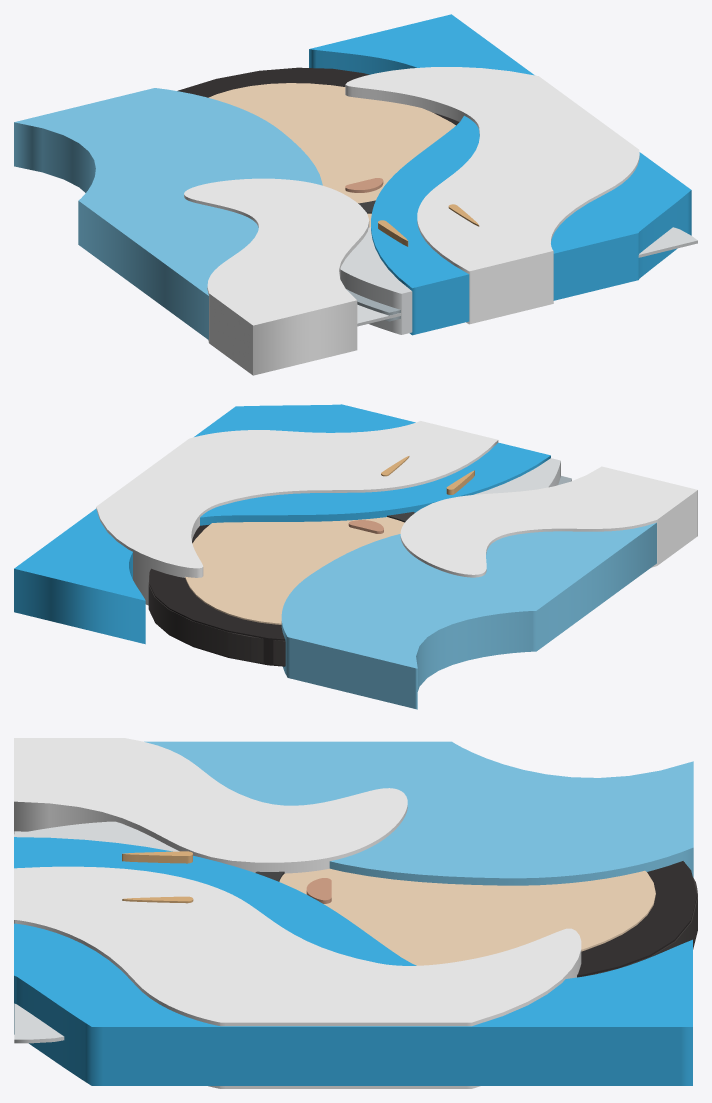
Rendered from emoji_u1f9d6_1f3fb_200d_2642.glb.
3 renders of one model, top to bottom at view 1: azimuth 30°, elevation 25°; view 2: azimuth 150°, elevation 25°; view 3: azimuth 270°, elevation 25°, orthographic. The views are drawn at different scales.
Parts seen in each view (by area): view 1: emoji_u1f9d6_1f3fb_200d_2642; view 2: emoji_u1f9d6_1f3fb_200d_2642; view 3: emoji_u1f9d6_1f3fb_200d_2642.
Boxes of the visible parts, <box> form: emoji_u1f9d6_1f3fb_200d_2642: <box>14,14,697,375</box>; emoji_u1f9d6_1f3fb_200d_2642: <box>14,404,697,709</box>; emoji_u1f9d6_1f3fb_200d_2642: <box>14,738,697,1088</box>.
Bounding box in the file's own units: 0.0334 × 0.004 × 0.0336.
